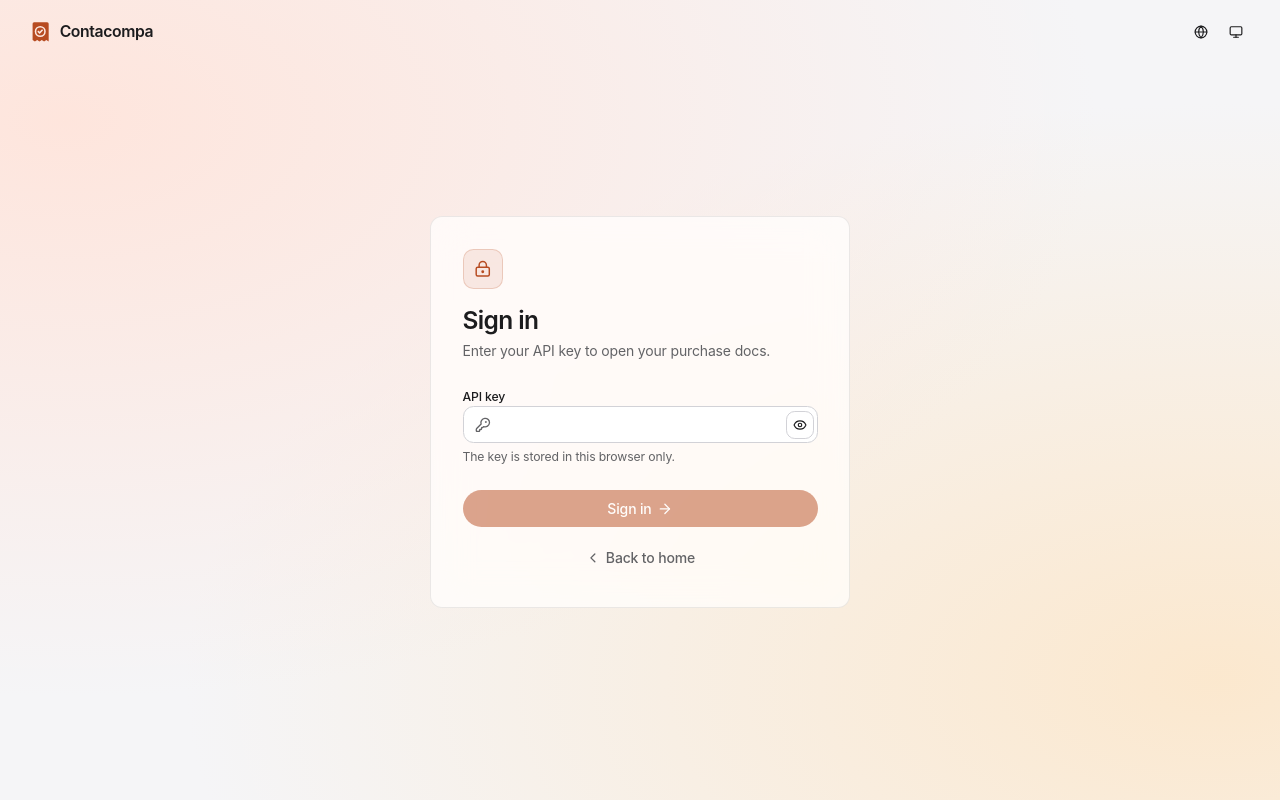
Test case: an invalid key shows the error and stores nothing
Type "bad" into the password field labelled "API key" at point(640, 424), box [462,406,818,443]
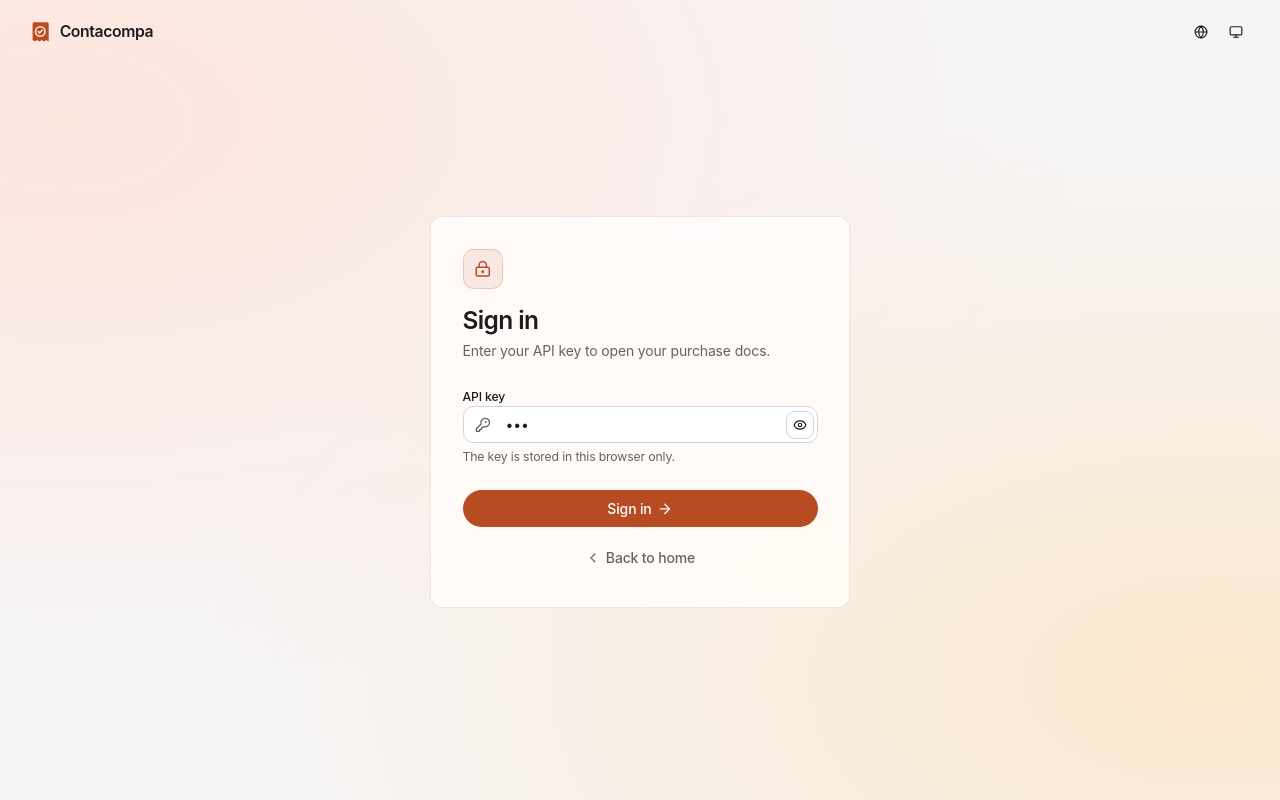
Click the button "Sign in" at point(640, 508), box [462,490,818,527]
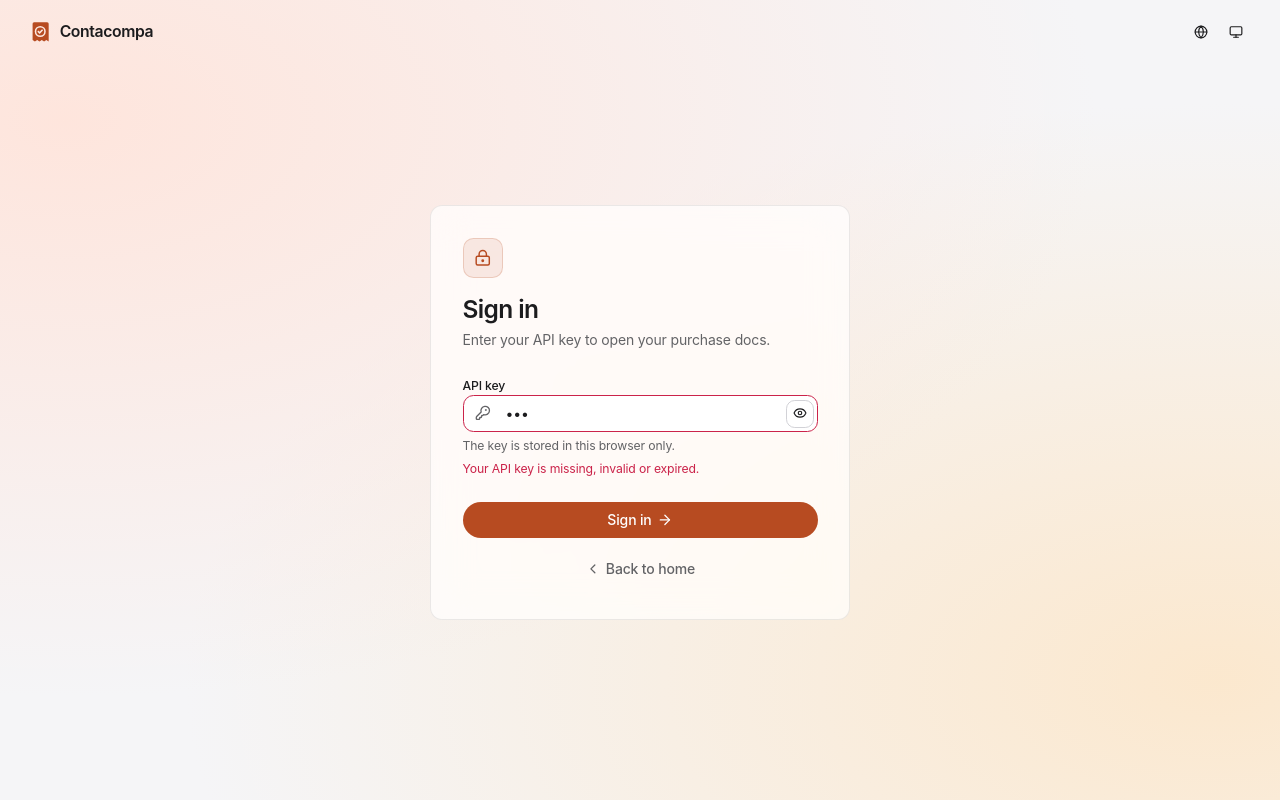
Expected: the message shows "missing, invalid or expired", [462,460,699,476]
